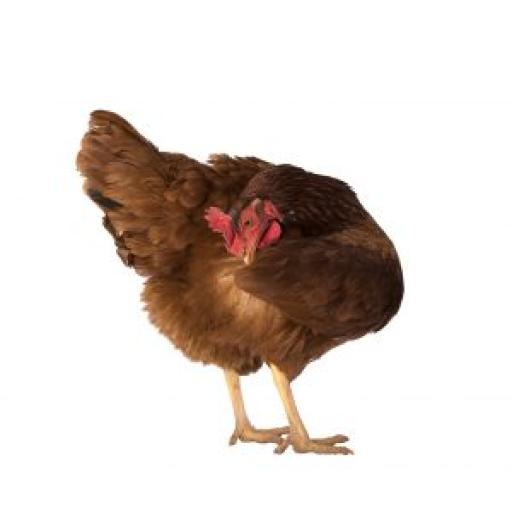healthy: (235, 199, 274, 252)
